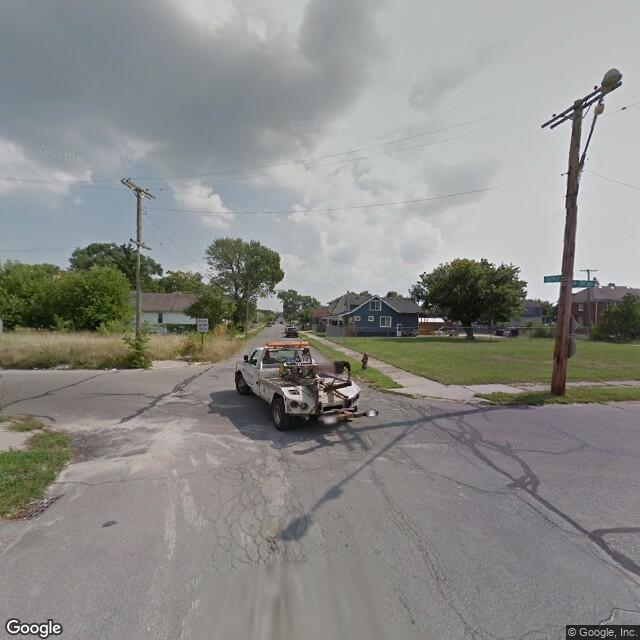litter: (110, 365, 117, 371), (32, 363, 38, 369)
